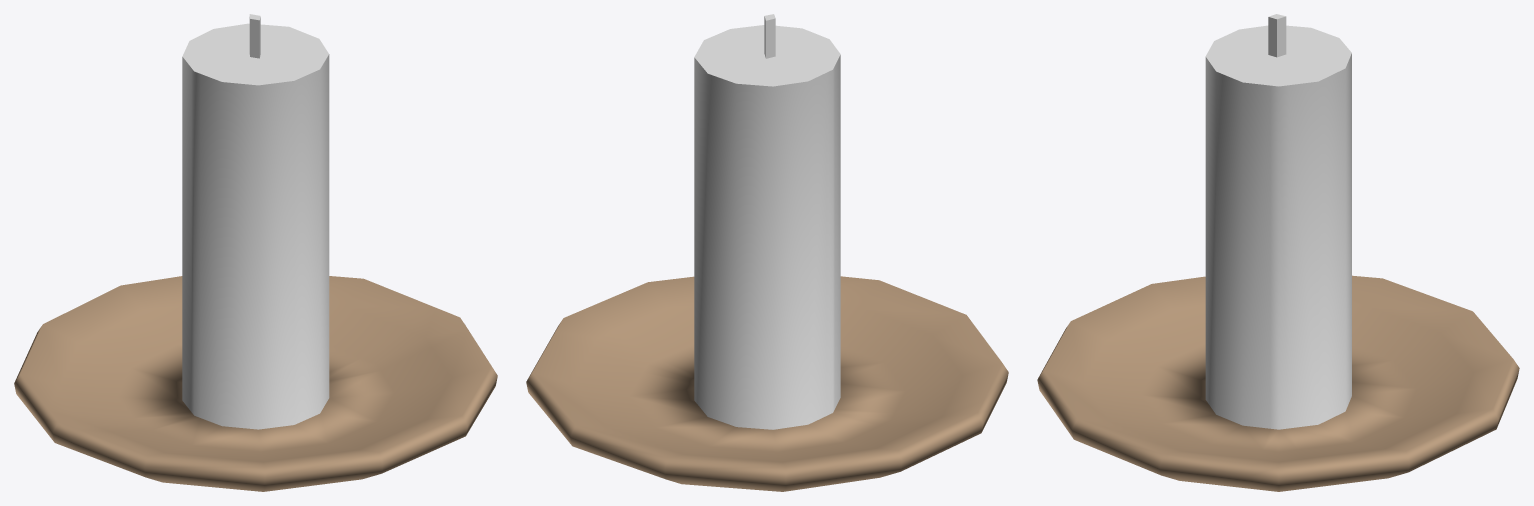
Rendered from Candle_Dish_low.fbx.
3 views of the same model, side by side, from view 1: azimuth 30°, elevation 25°; view 2: azimuth 150°, elevation 25°; view 3: azimuth 270°, elevation 25° (orthographic).
Visible parts, largest first — view 1: Candledish_low; view 2: Candledish_low; view 3: Candledish_low.
Part boxes in pixels (left/top/right/bottom): Candledish_low: left=14, top=14, right=497, bottom=491; Candledish_low: left=526, top=14, right=1008, bottom=491; Candledish_low: left=1037, top=14, right=1519, bottom=491.
Size of the model in its own units: 20.12 by 18.87 by 20.1.
